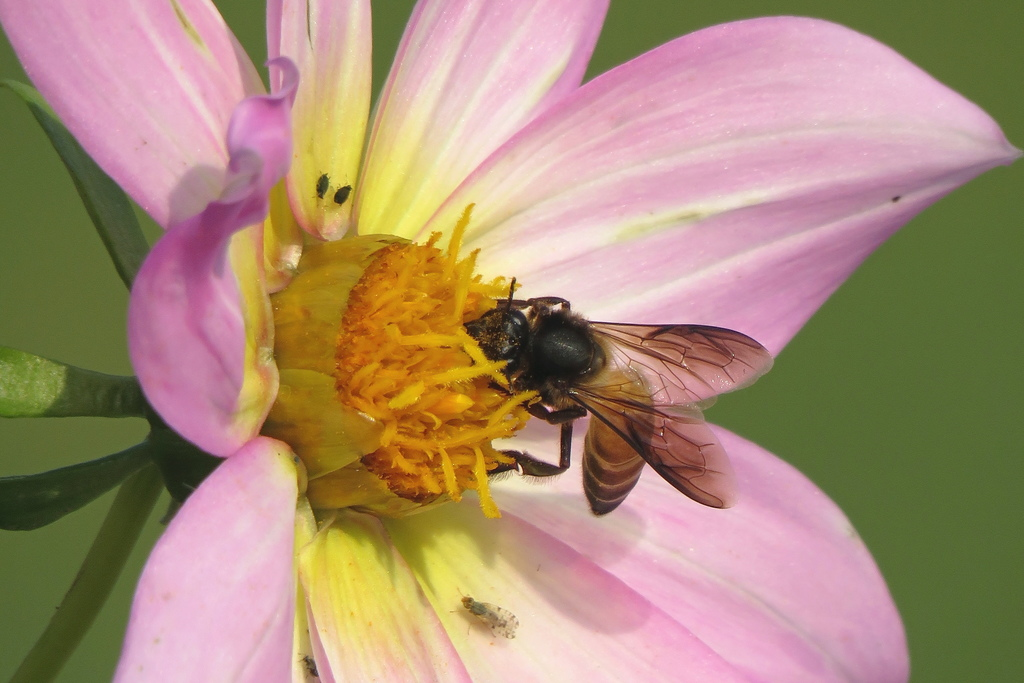honeybee: (483, 277, 776, 516)
